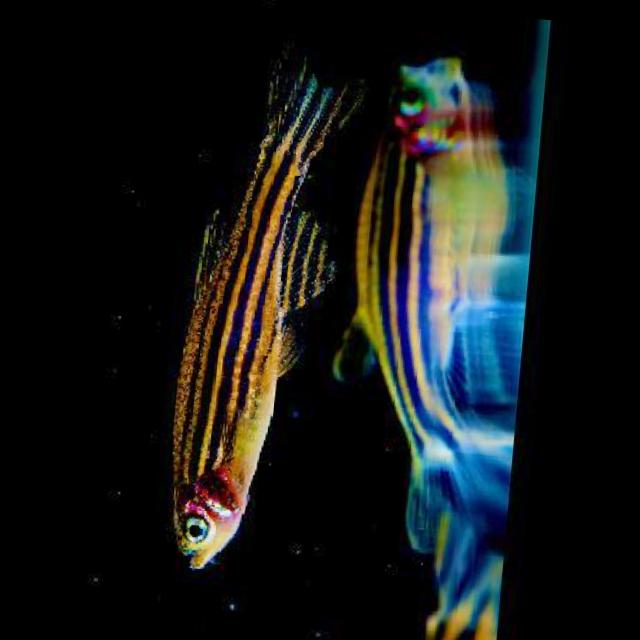ZebraFish: (158, 47, 360, 579)
